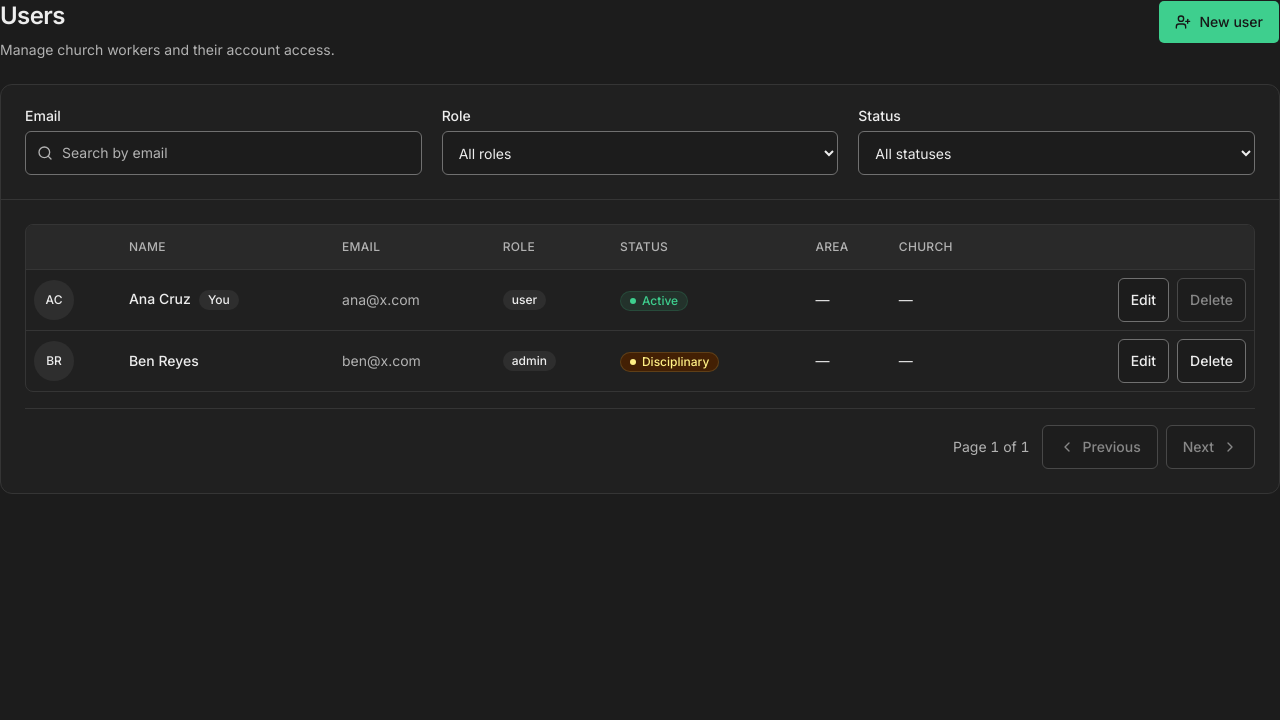
Test: users list › Delete confirms with the D-A11 text, sends the reason, then closes and toasts
This screenshot has width=1280, height=720.
Click the button named "Delete Ben Reyes" at (1212, 360), box 1177,338 -> 1246,382
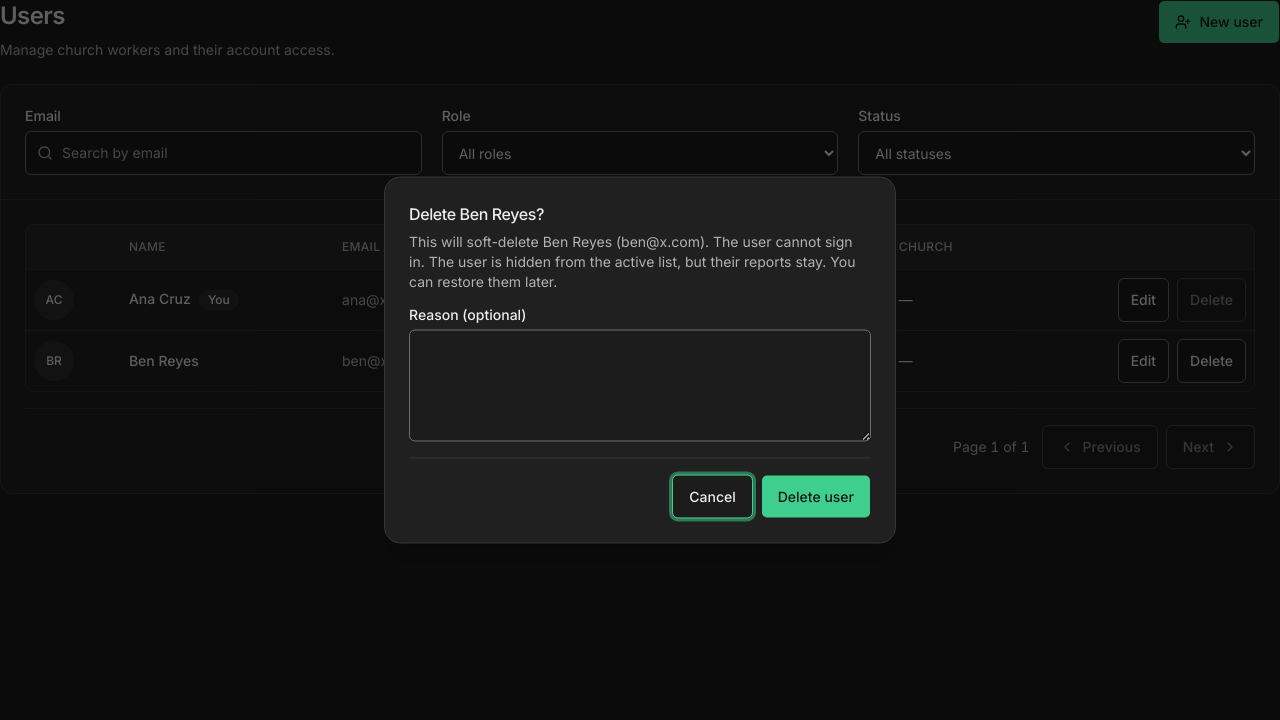
Expected: the heading "Delete Ben Reyes?" is shown, 409,202 -> 544,226
Expected: the dialog shows "This will soft-delete Ben Reyes (ben@x.com). The user cannot sign in. The user is hidden from the active list, but their reports stay. You can restore them late", 384,176 -> 896,544
Expected: the text box labelled "Reason (optional)" is empty
Type "Left the church" into the text box labelled "Reason (optional)" at (640, 386), box 409,330 -> 871,442
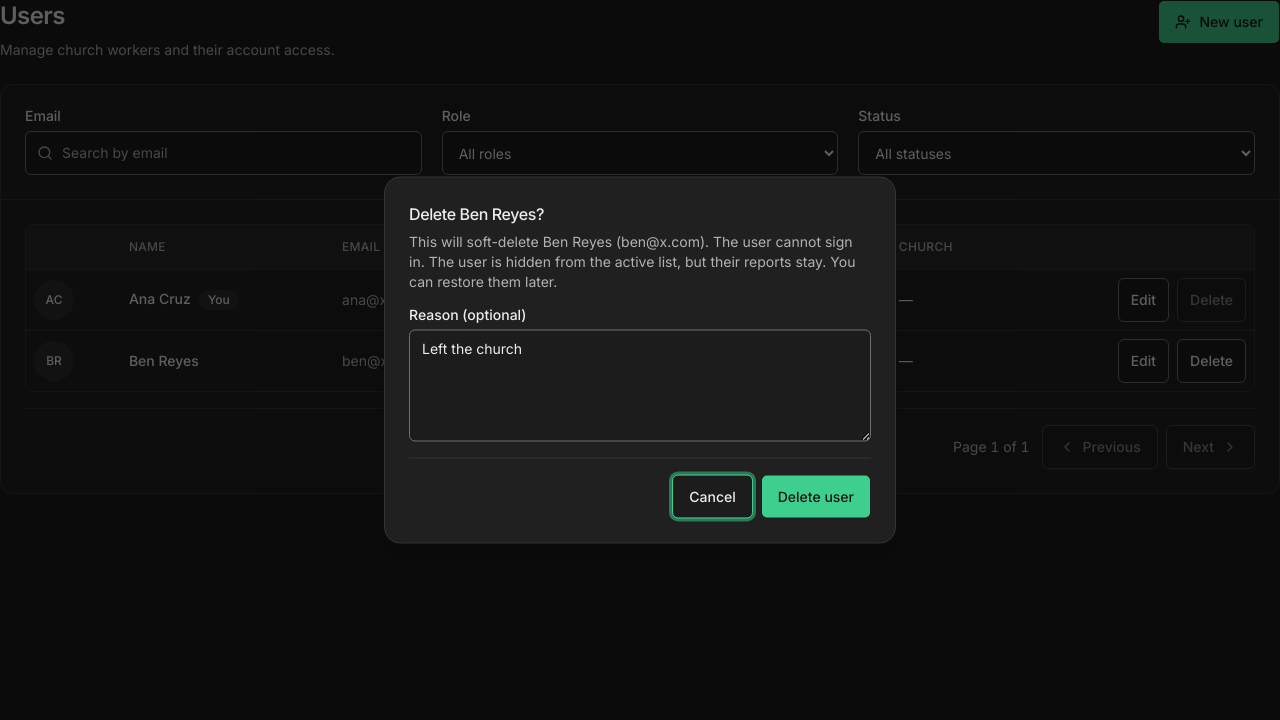
Click the button "Delete user" at (816, 496), box 761,474 -> 871,518
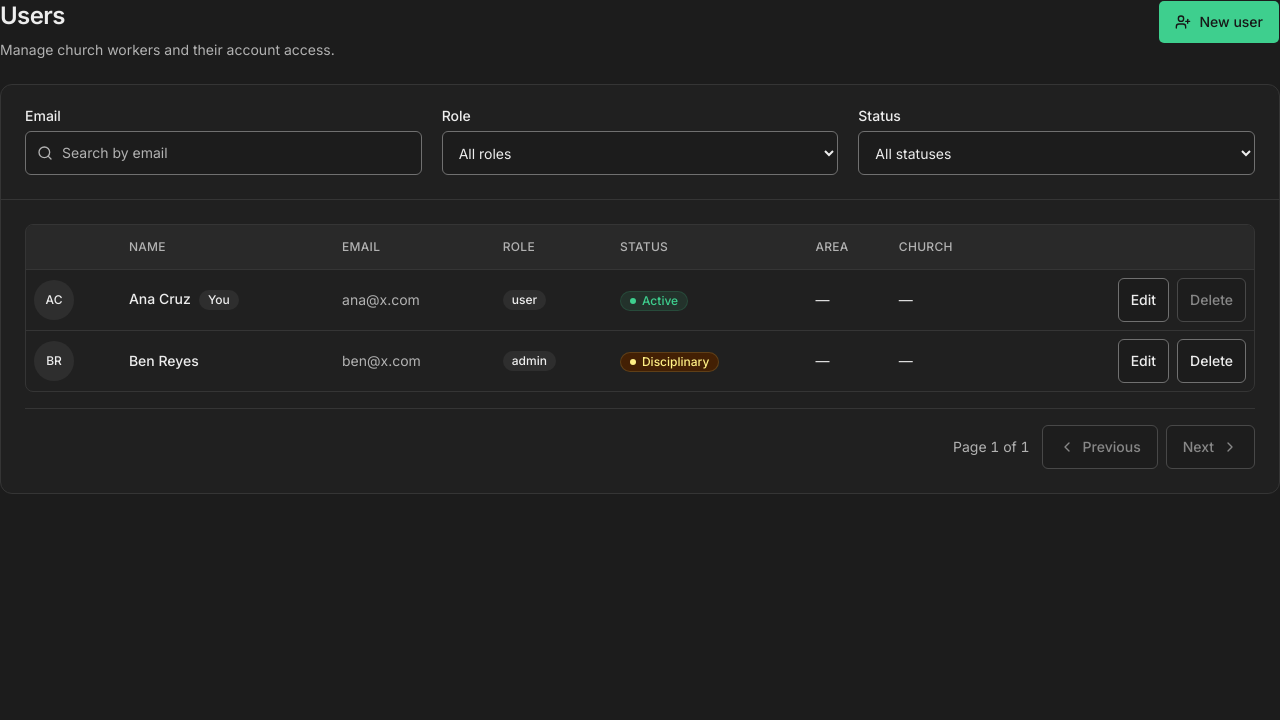
Expected: the dialog is gone
